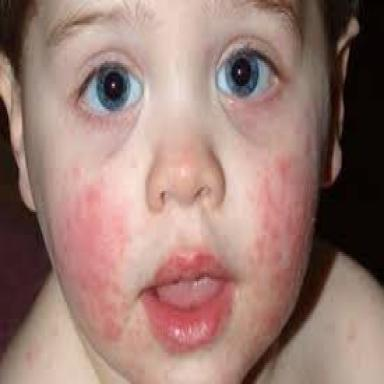burn: (56, 187, 127, 340), (256, 176, 310, 287)
